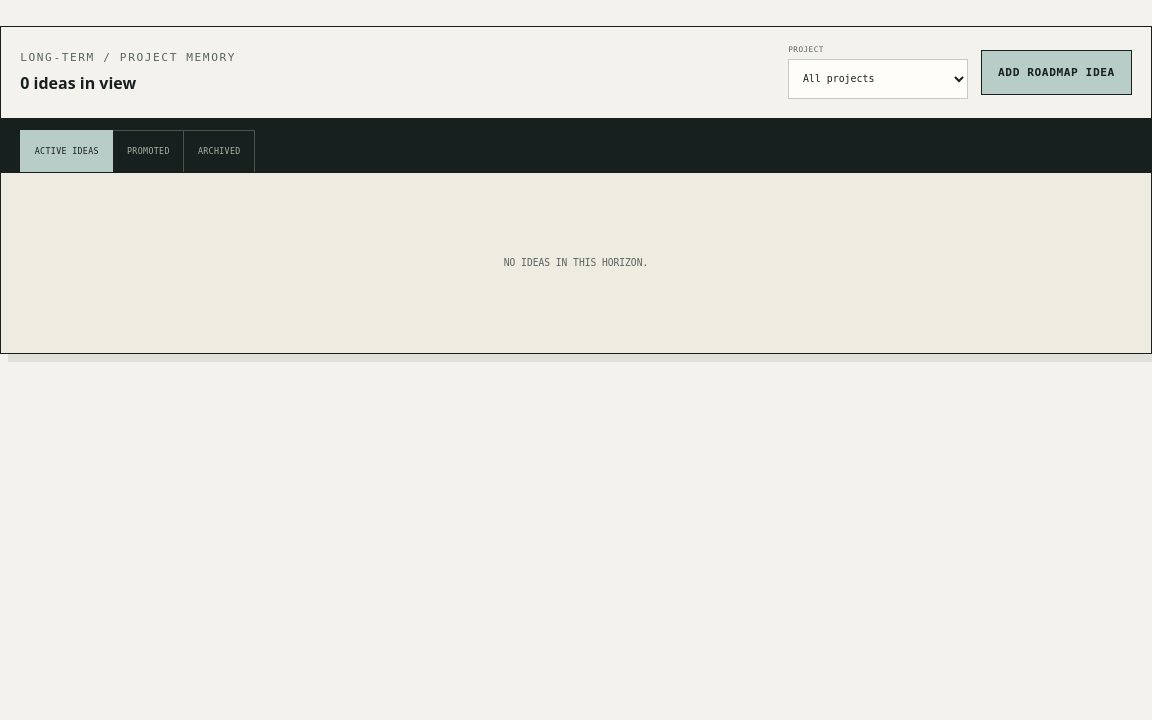
RoadmapWorkspace › creates a durable AI-suggested idea with source-chat provenance
Expected: the text "No ideas in this horizon." is shown, [504,257,648,268]
Click the button "Add roadmap idea" at (1056,72), box [981,50,1132,95]
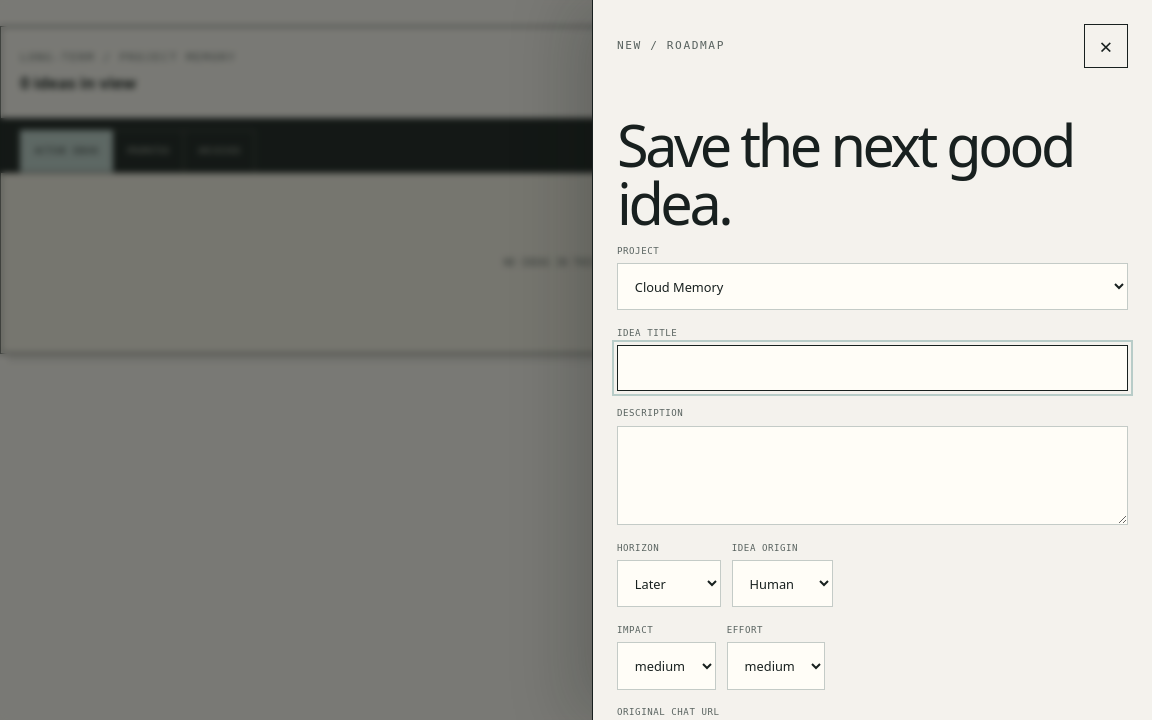
Type "Add confidence trends" into the field labelled "Idea title" at (872,368), box [617,345,1128,391]
Select "AI model" in the dropdown labelled "Idea origin" at (783,584), box [732,560,833,608]
(page scrolled)
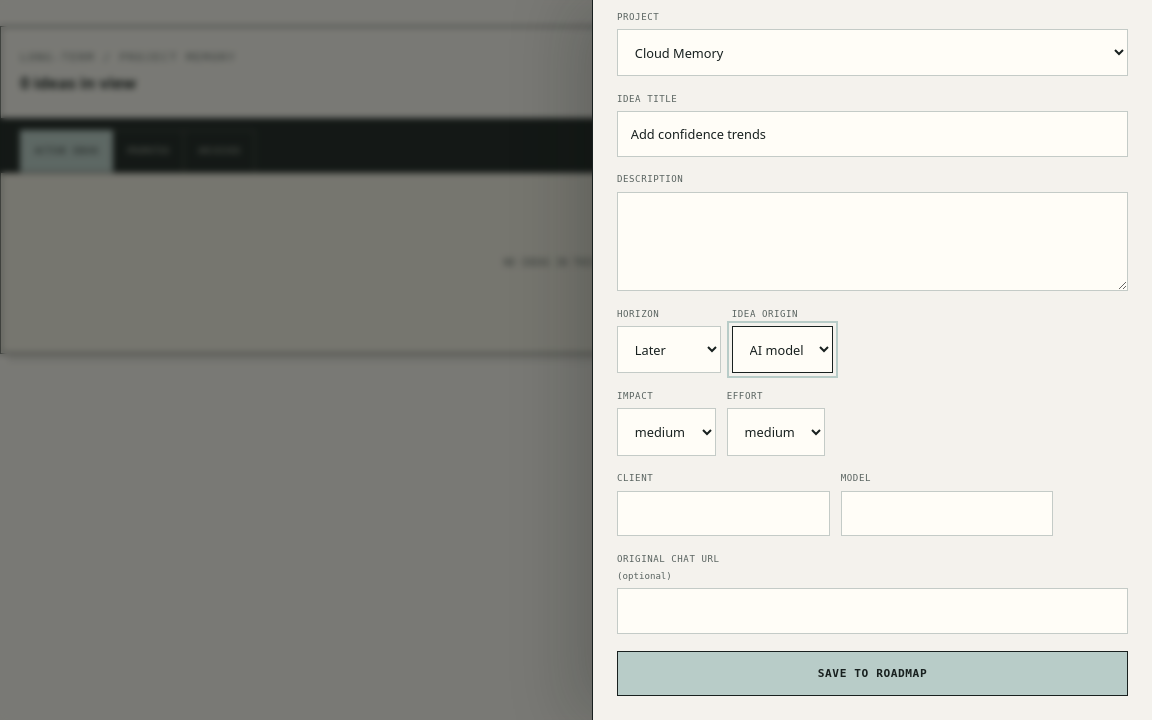
Type "Codex" into the field labelled "Client" at (723,513), box [617,491,830,536]
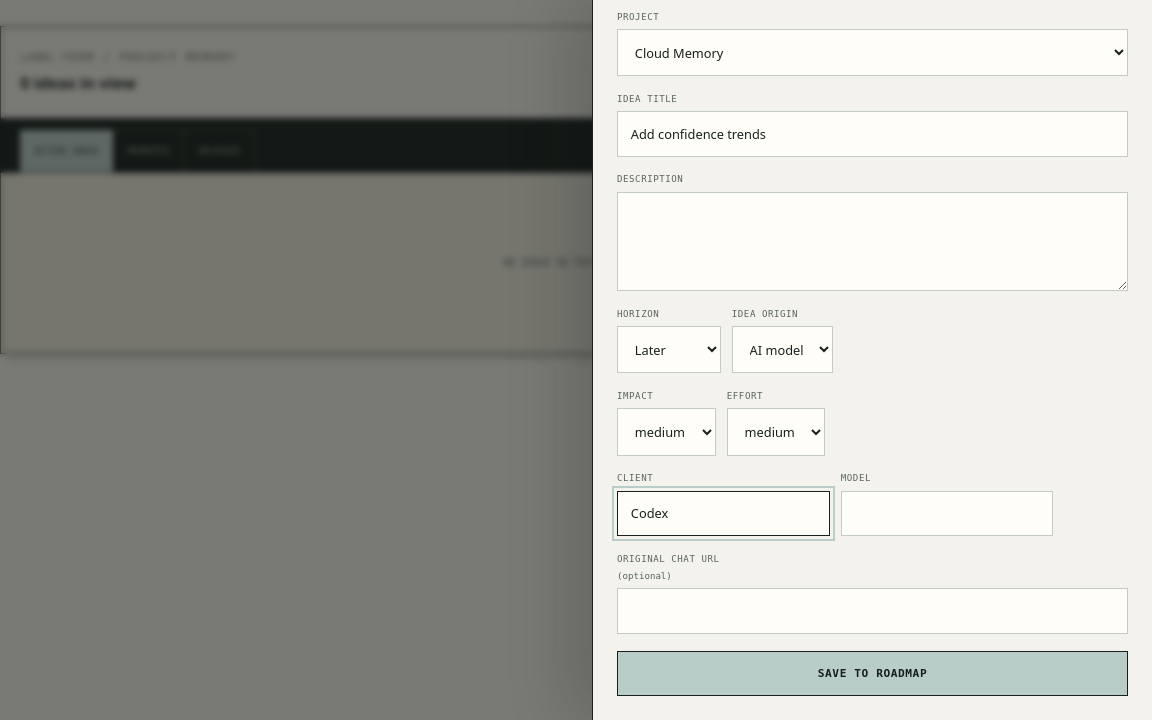
Type "GPT-5" into the field labelled "Model" at (947,513), box [841,491,1053,536]
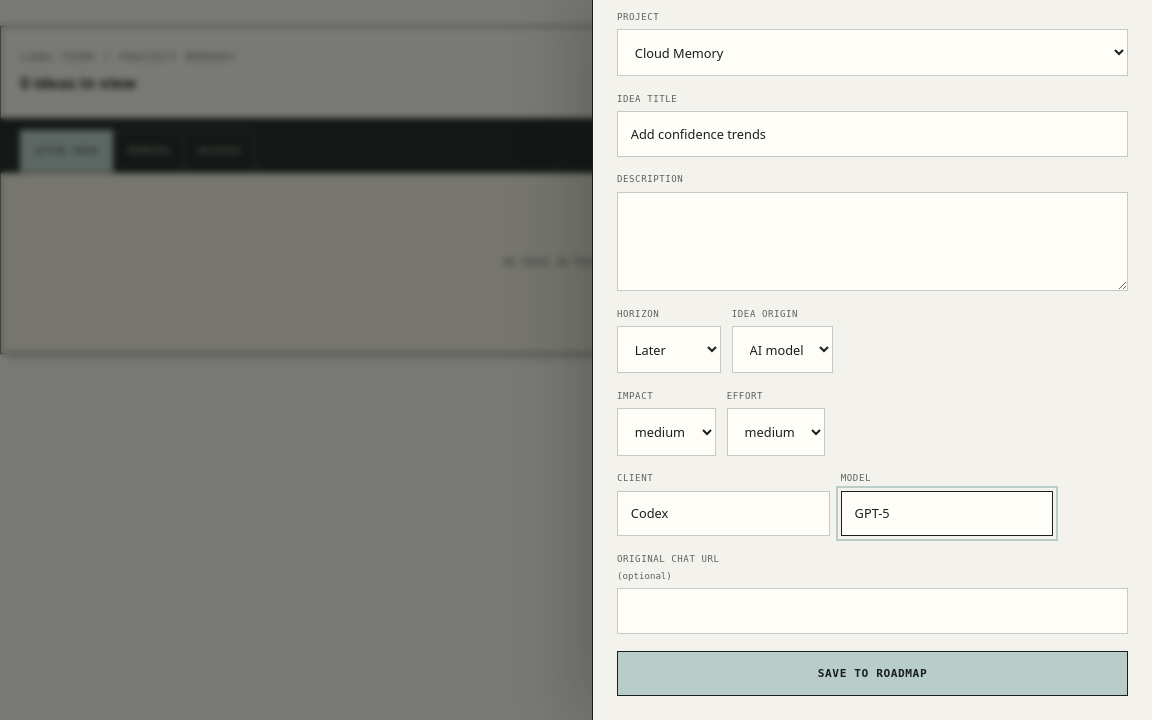
Type "https://chatgpt.com/c/roadmap" into the field labelled "Original chat URL" at (872,611), box [617,588,1128,634]
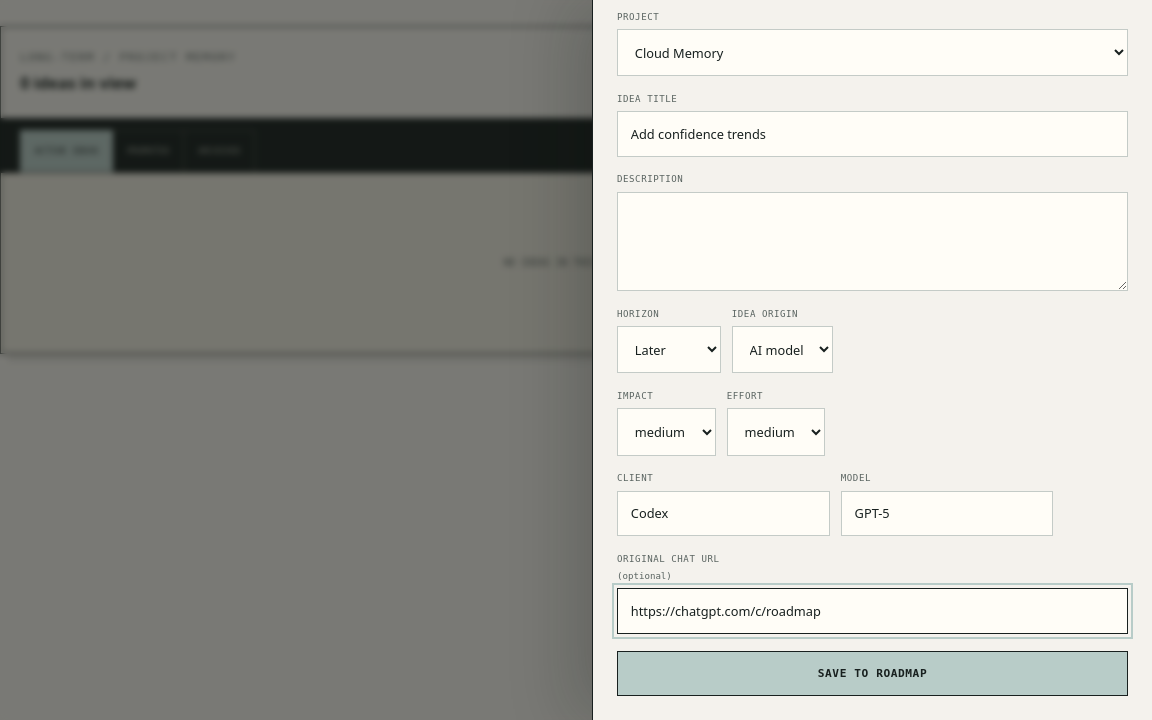
Click the button "Save to roadmap" at (872,674), box [617,651,1128,696]
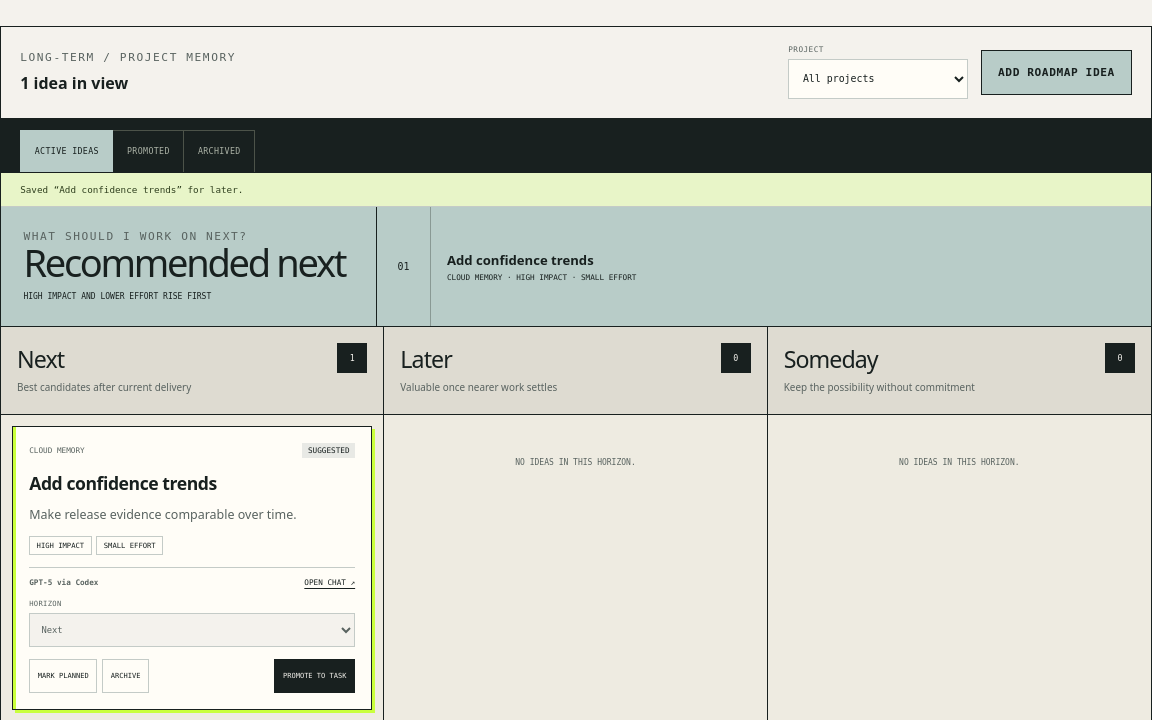
Expected: the text "Add confidence trends" is shown 2 times, [447,251,594,269]; [29,471,217,495]
